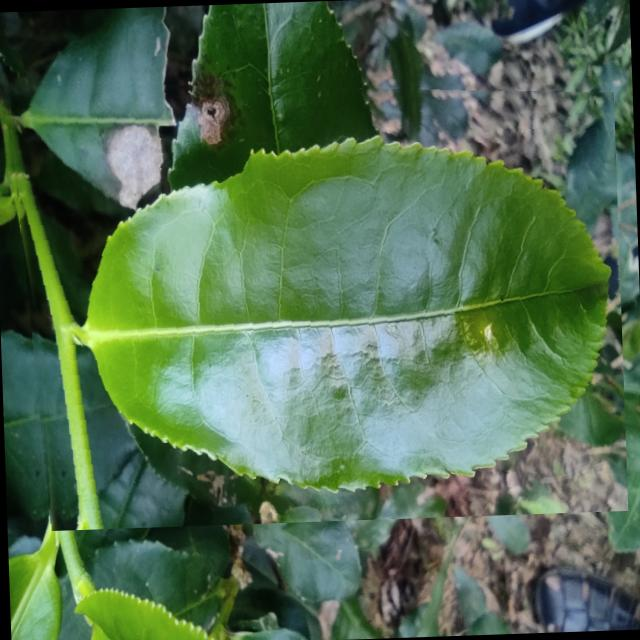Category C(4-7 days): (5, 59, 628, 530)
